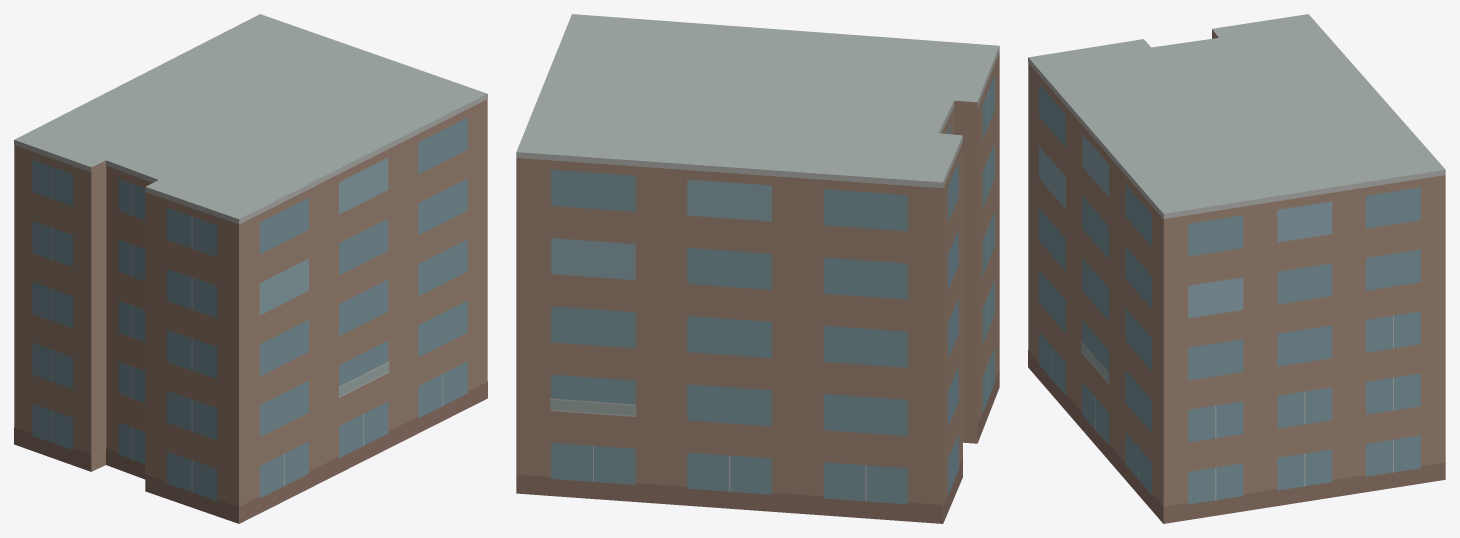
Rendered from survey-upis-32949993.glb.
3 renders of one model, left to right at view 1: azimuth 30°, elevation 25°; view 2: azimuth 150°, elevation 25°; view 3: azimuth 270°, elevation 25°, orthographic. The views are drawn at different scales.
Parts seen in each view (by area): view 1: survey-upis-32949993.tmp; view 2: survey-upis-32949993.tmp; view 3: survey-upis-32949993.tmp.
Part boxes in pixels (<box>): survey-upis-32949993.tmp: <box>14,14,487,523</box>; survey-upis-32949993.tmp: <box>516,14,999,523</box>; survey-upis-32949993.tmp: <box>1028,14,1445,523</box>.
Size of the model in its own units: 19.78 by 14.3 by 17.46.
